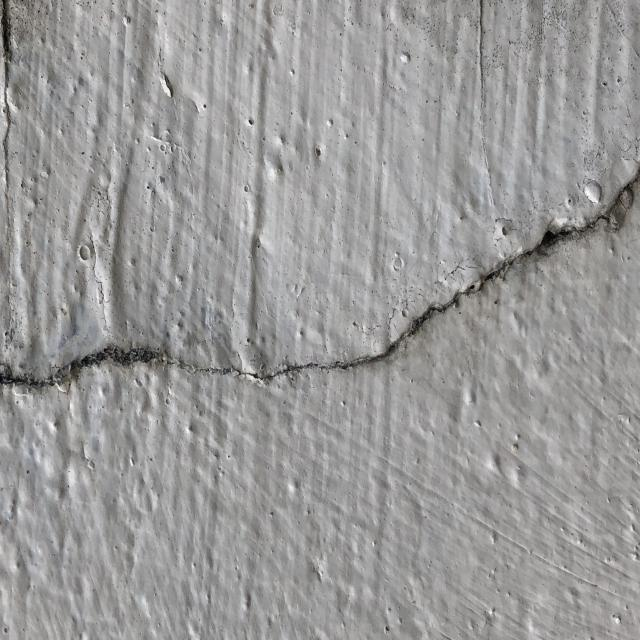SurfaceCrack: (1, 131, 640, 429)
